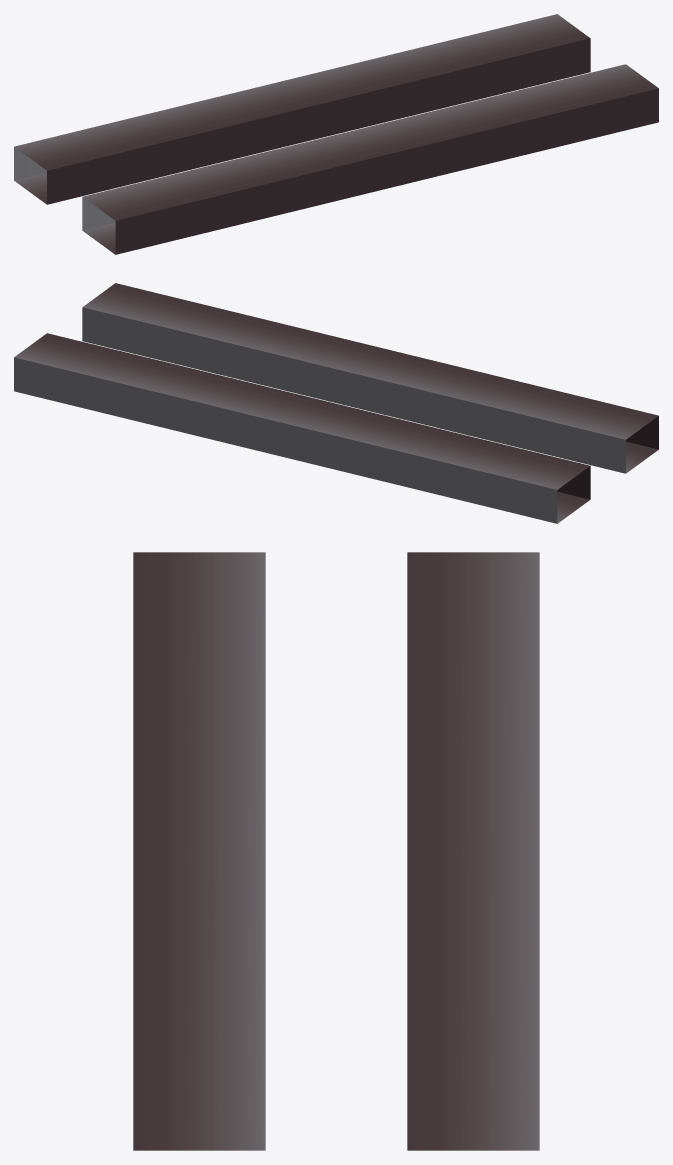
The model's file is Fence 01 Barrier 01.FBX.
3 renders of one model, top to bottom at view 1: azimuth 30°, elevation 25°; view 2: azimuth 150°, elevation 25°; view 3: azimuth 270°, elevation 25°, orthographic. The views are drawn at different scales.
Parts seen in each view (by area): view 1: Fence 01 Barrier 01; view 2: Fence 01 Barrier 01; view 3: Fence 01 Barrier 01.
Boxes of the visible parts, x1,y1,x2,y2 form: Fence 01 Barrier 01: (14,14,658,254); Fence 01 Barrier 01: (14,283,658,523); Fence 01 Barrier 01: (133,552,539,1150).
Bounding box in the file's own units: 195 × 11.67 × 63.28.
Materials: 1 (1 with a texture image).
